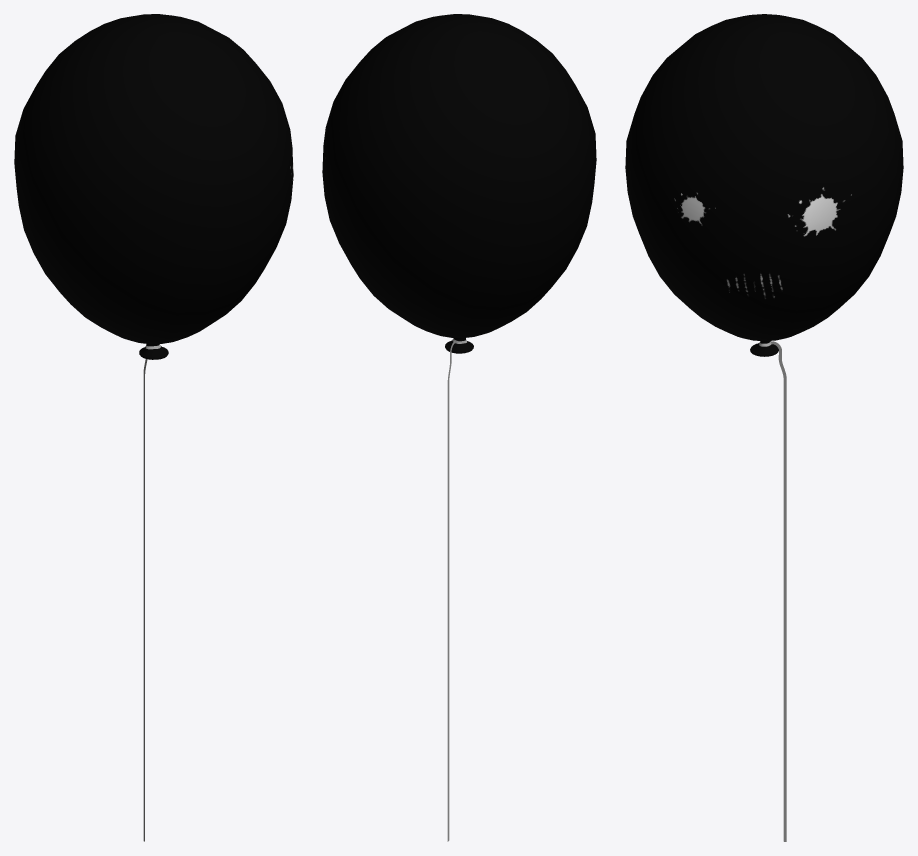
Rendered from Baloon_geo.fbx.
The picture shows the model from 3 angles, left to right: view 1: azimuth 30°, elevation 25°; view 2: azimuth 150°, elevation 25°; view 3: azimuth 270°, elevation 25°; orthographic projection.
Visible parts, largest first — view 1: Baloon_main, Baloon_string; view 2: Baloon_main, Baloon_string; view 3: Baloon_main, Baloon_string.
Part boxes in pixels (x1,y1,x2,y2): Baloon_main: (14, 14, 293, 359); Baloon_string: (143, 344, 160, 841); Baloon_main: (322, 14, 596, 353); Baloon_string: (447, 338, 467, 841); Baloon_main: (625, 14, 903, 356); Baloon_string: (759, 341, 786, 841).
Size of the model in its own units: 17.6 by 56.99 by 17.6.
